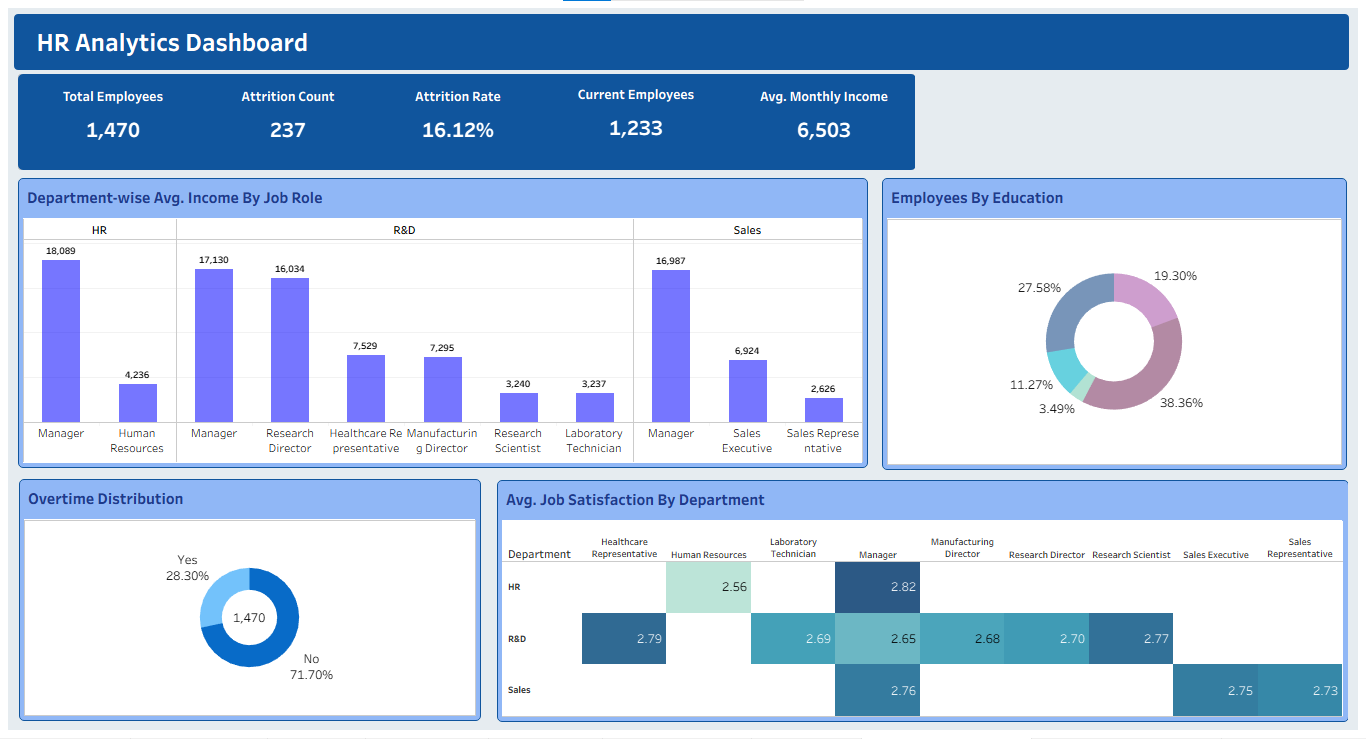

This screenshot's page, from the dashboard's own definition file:
{"tool":"tableau","page":{"name":"HR Analytics Dashboard","canvas":[1000,1000],"units":"permille","ordinal":1},"visuals":[{"type":"blank","box":[10.4,18.6,977.5,76]},{"type":"text","box":[25.1,28.7,342.9,54.1]},{"type":"worksheet","title":"KPI_Current Employees","mark":"Automatic","box":[403.5,104.7,124.7,114.9]},{"type":"worksheet","title":"KPI Total_Emp","mark":"Automatic","box":[20.8,106.4,124.7,114.9]},{"type":"worksheet","title":"KPI Attrition Count","mark":"Automatic","box":[148.9,106.4,124.7,114.9]},{"type":"worksheet","title":"KPI Attrition Rate","mark":"Automatic","box":[272.7,106.4,124.7,114.9]},{"type":"worksheet","title":"KPI_Avg. Income","mark":"Automatic","box":[541.1,106.4,124.7,114.9]},{"type":"worksheet","title":"Deparment-wise Average Income By Job Role","mark":"Automatic","rows":["Monthly Income"],"cols":["Department","Job Role"],"box":[13.7,242.9,621.1,390.9]},{"type":"worksheet","title":"Employees By Education","mark":"Pie","rows":["Calculation_0070150608388098","Calculation_0070150608388098"],"box":[646.6,242.9,338.8,392.6]},{"type":"worksheet","title":"Overtime Distribution","mark":"Pie","rows":["Calculation_0070150626840582","Calculation_0070150626840582"],"box":[14.6,650,337.1,325]},{"type":"worksheet","title":"Averaage Job Satisfaction By Department","mark":"Square","rows":["Department"],"cols":["Job Role"],"box":[364.4,651.7,621.9,325]}]}

Visuals, with their boxes on the dashboard's canvas, which has no fixed pixel size, in thousandths of its width and height (x1, y1, x2, y2). These are canvas units, not pixel positions in the 1366x739 screenshot, which may show the page scaled, cropped or inside an application window:
blank: [x1=10, y1=19, x2=988, y2=95]
text: [x1=25, y1=29, x2=368, y2=83]
"KPI_Current Employees" worksheet: [x1=404, y1=105, x2=528, y2=220]
"KPI Total_Emp" worksheet: [x1=21, y1=106, x2=146, y2=221]
"KPI Attrition Count" worksheet: [x1=149, y1=106, x2=274, y2=221]
"KPI Attrition Rate" worksheet: [x1=273, y1=106, x2=397, y2=221]
"KPI_Avg. Income" worksheet: [x1=541, y1=106, x2=666, y2=221]
"Deparment-wise Average Income By Job Role" worksheet: [x1=14, y1=243, x2=635, y2=634]
"Employees By Education" worksheet (Pie marks): [x1=647, y1=243, x2=985, y2=636]
"Overtime Distribution" worksheet (Pie marks): [x1=15, y1=650, x2=352, y2=975]
"Averaage Job Satisfaction By Department" worksheet (Square marks): [x1=364, y1=652, x2=986, y2=977]
